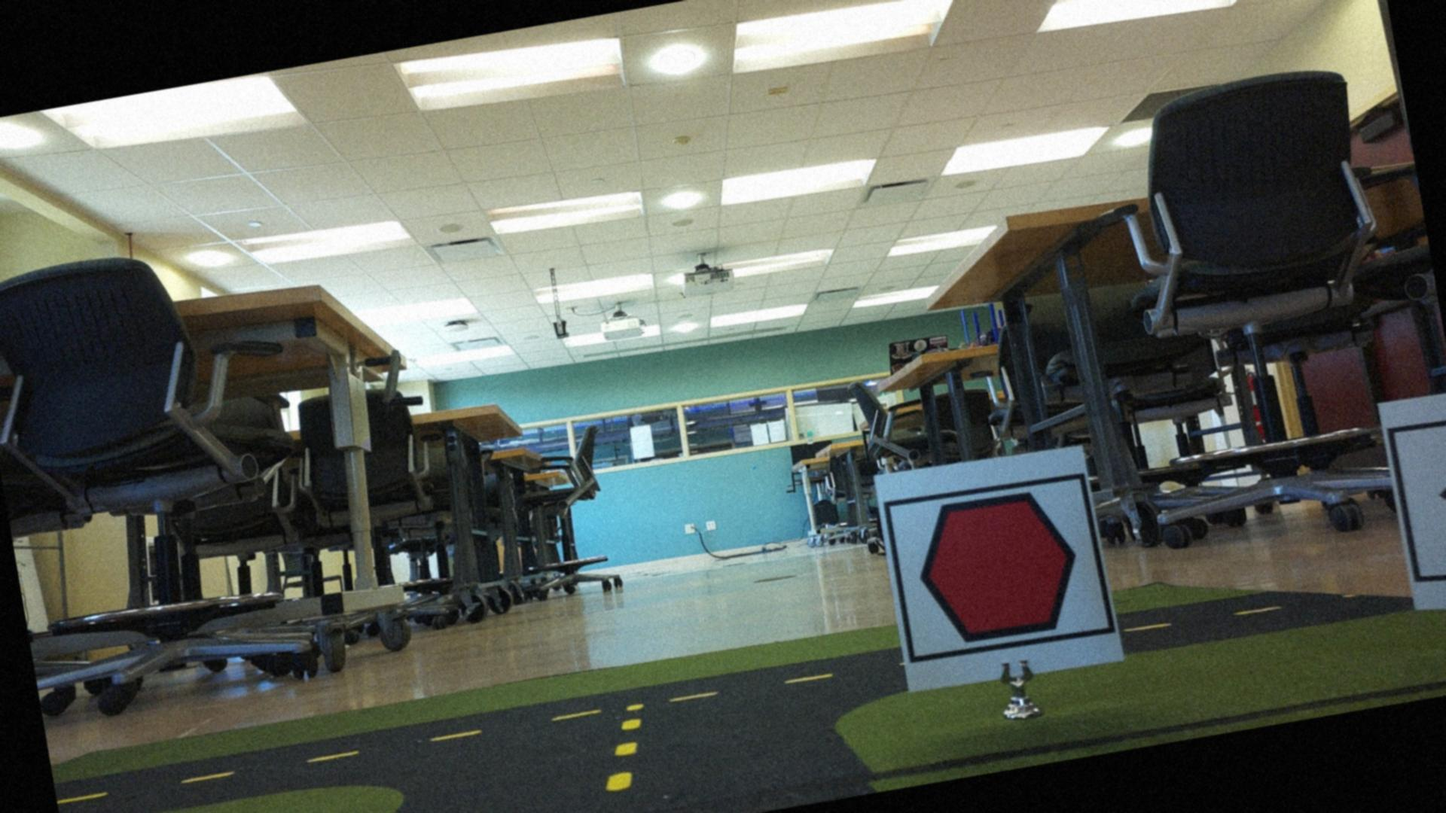stop: (893, 474, 1106, 662)
yellowline: (591, 699, 653, 794)
